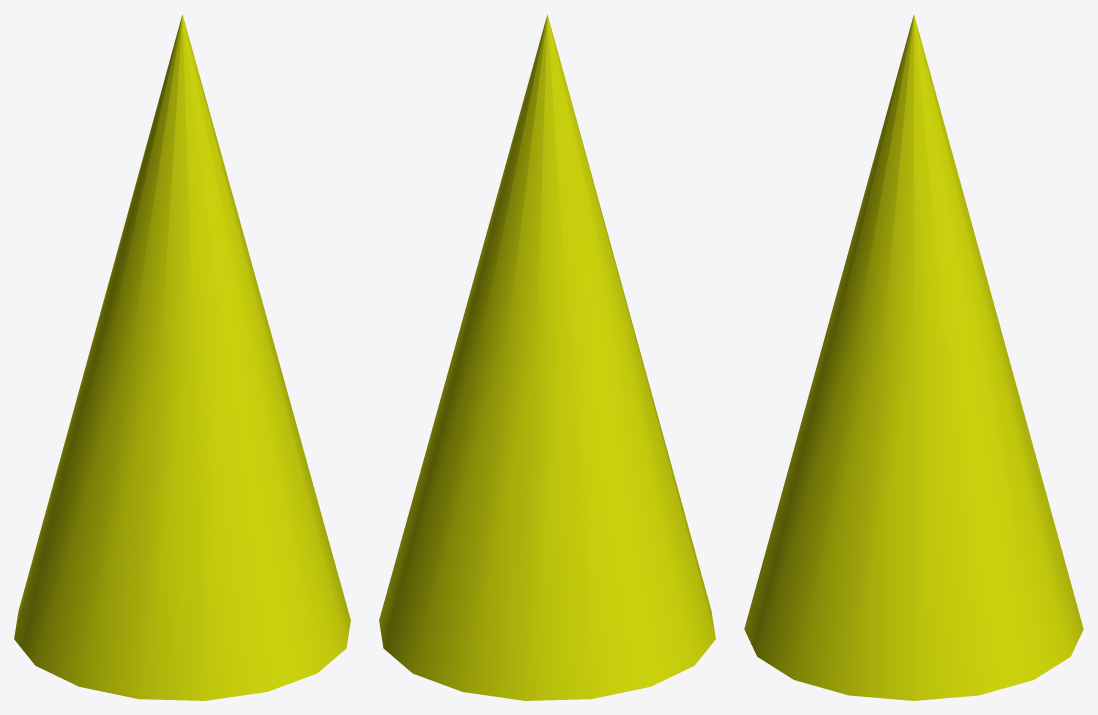
3 views of the same model, side by side, from view 1: azimuth 30°, elevation 25°; view 2: azimuth 150°, elevation 25°; view 3: azimuth 270°, elevation 25° (orthographic).
Visible parts, largest first — view 1: Cone001; view 2: Cone001; view 3: Cone001.
Boxes of the visible parts, x1,y1,x2,y2 form: Cone001: (14, 14, 350, 700); Cone001: (379, 14, 715, 700); Cone001: (744, 15, 1083, 700).
Bounding box in the file's own units: 9.84 × 19.69 × 9.84.
